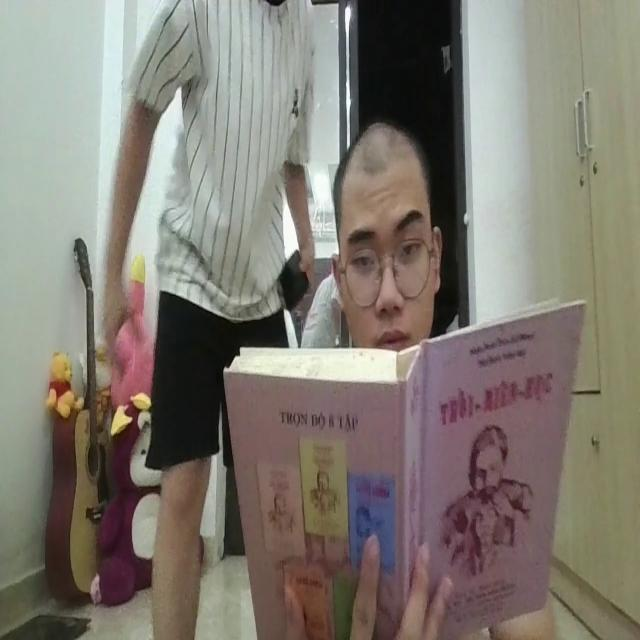book: (215, 291, 593, 620)
extra_person: (94, 4, 325, 640)
student: (314, 119, 450, 369)
